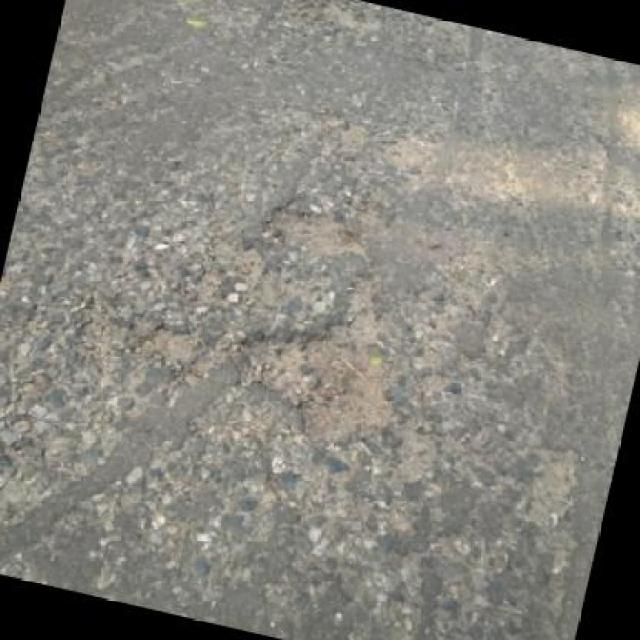pothole: (215, 279, 417, 456), (257, 195, 372, 271), (132, 316, 202, 369)
